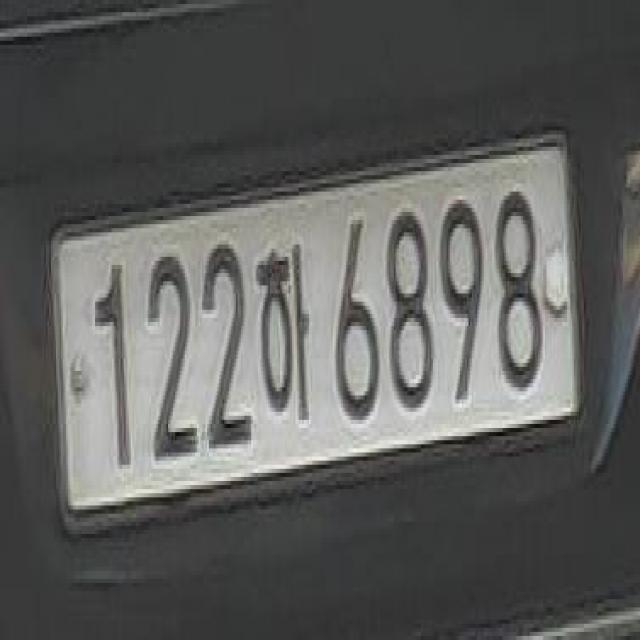illegal_plate: (50, 134, 582, 536)
